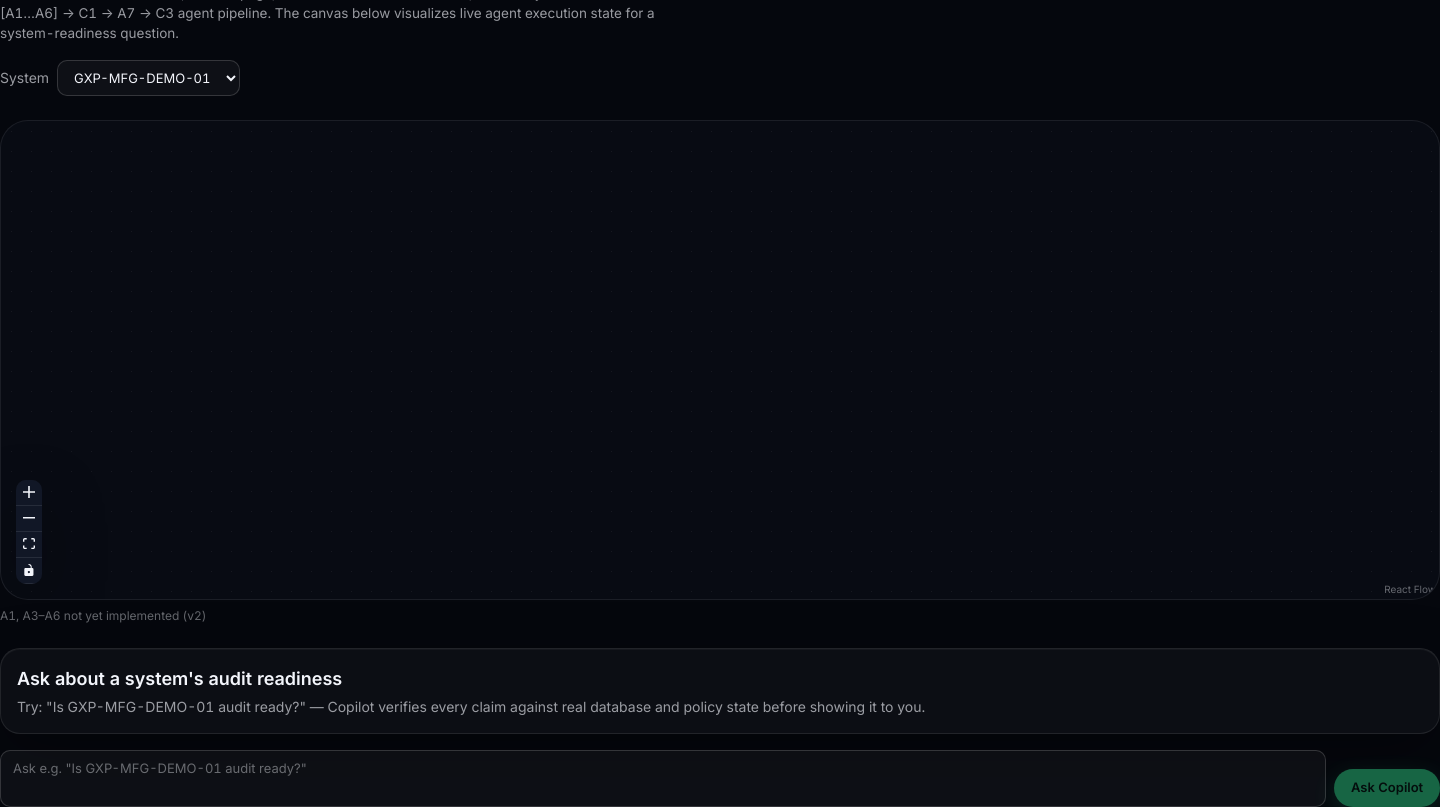
Copilot hero query › renders the stream-failure copy inline as the assistant turn on stream error
The width and height of the screenshot is (1440, 807).
(page scrolled)
Type "Is GXP-MFG-DEMO-01 audit ready?" into the text box with placeholder "Ask e.g. \"Is GXP-MFG-DEMO-01 audit ready?\"".
click(663, 778); type("Is GXP-MFG-DEMO-01 audit ready?")  # box [0,750,1326,806]
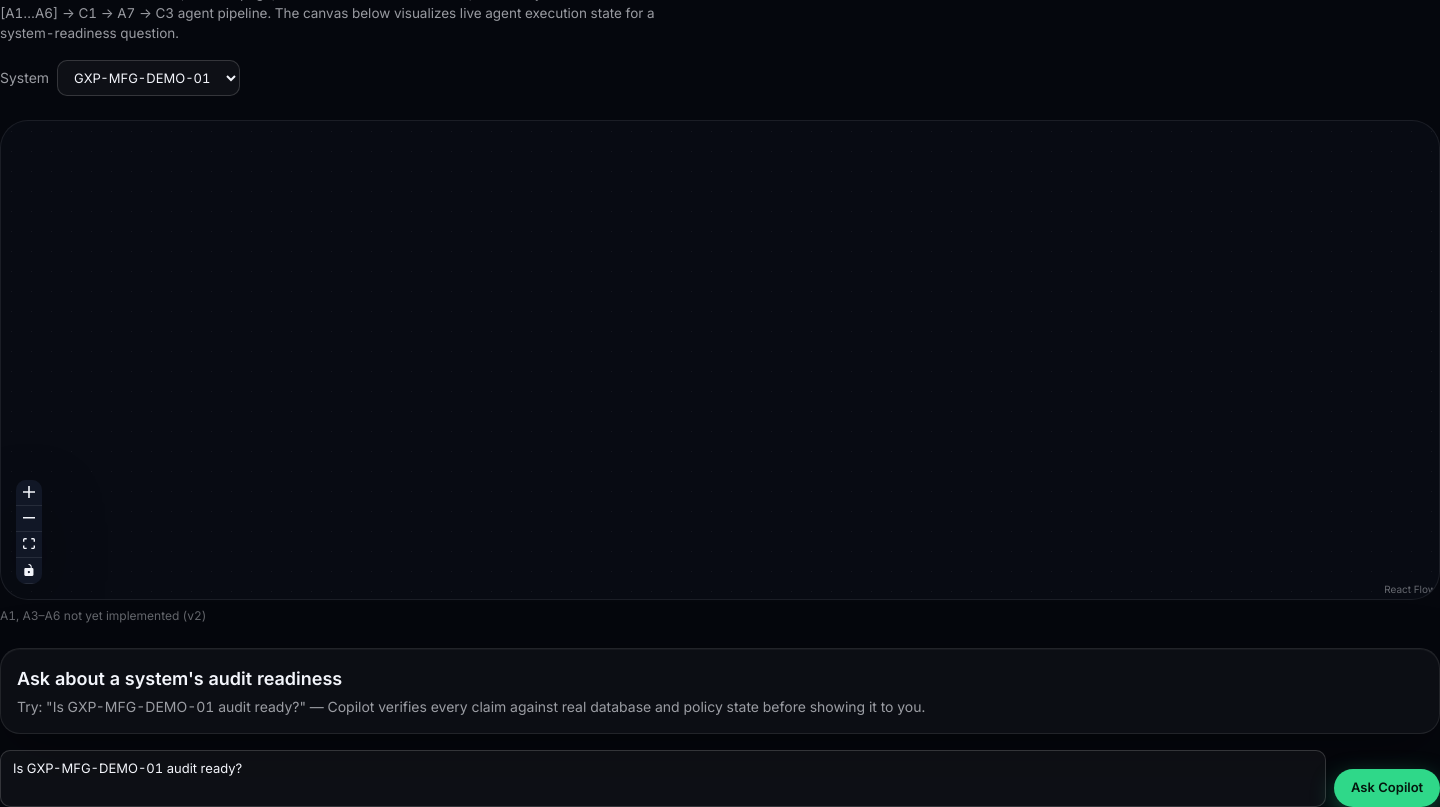
Click the button "Ask Copilot".
click(1387, 788)  # box [1334,769,1439,806]
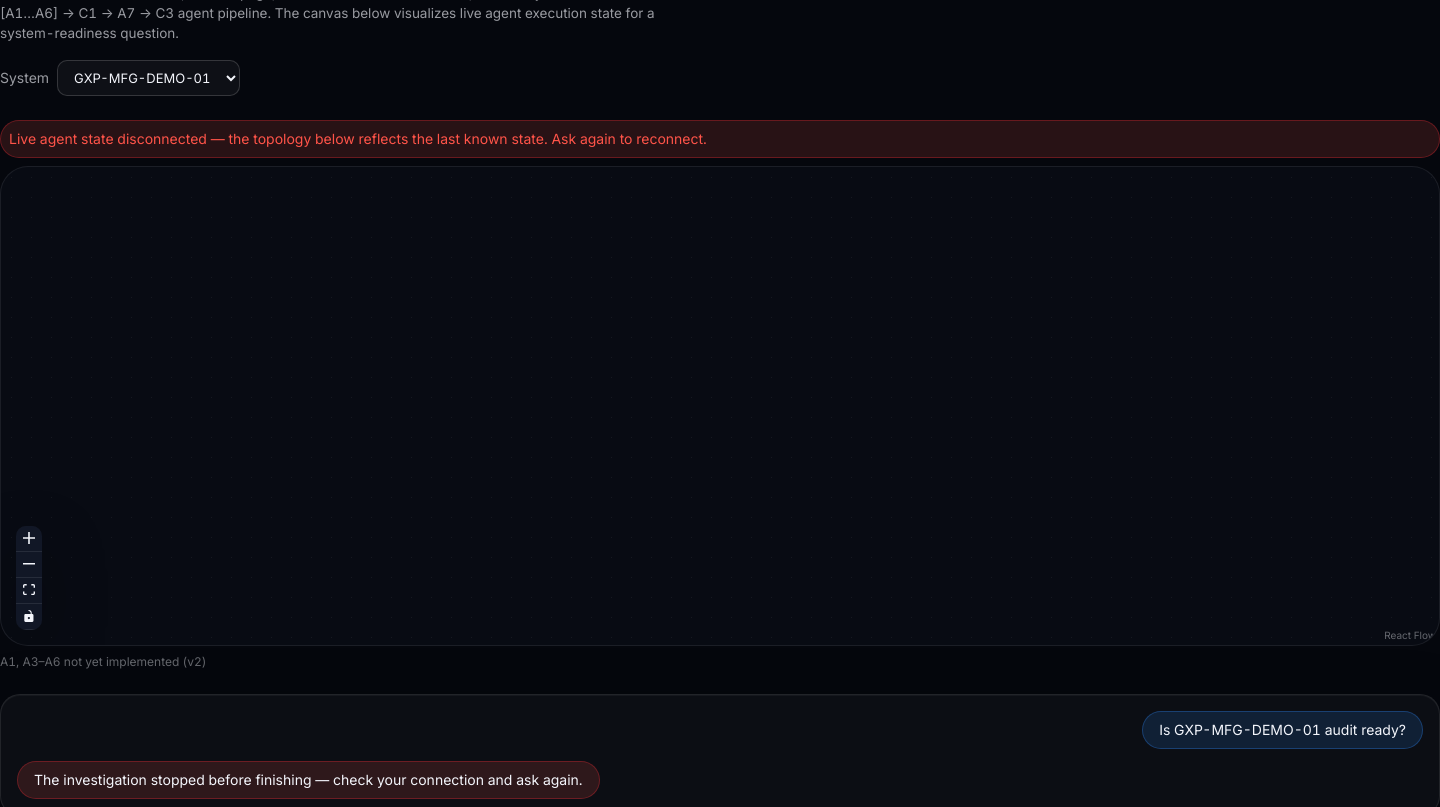
Check: the text "The investigation stopped before finishing — check your connection and ask again." is shown, box [34,770,583,788]
